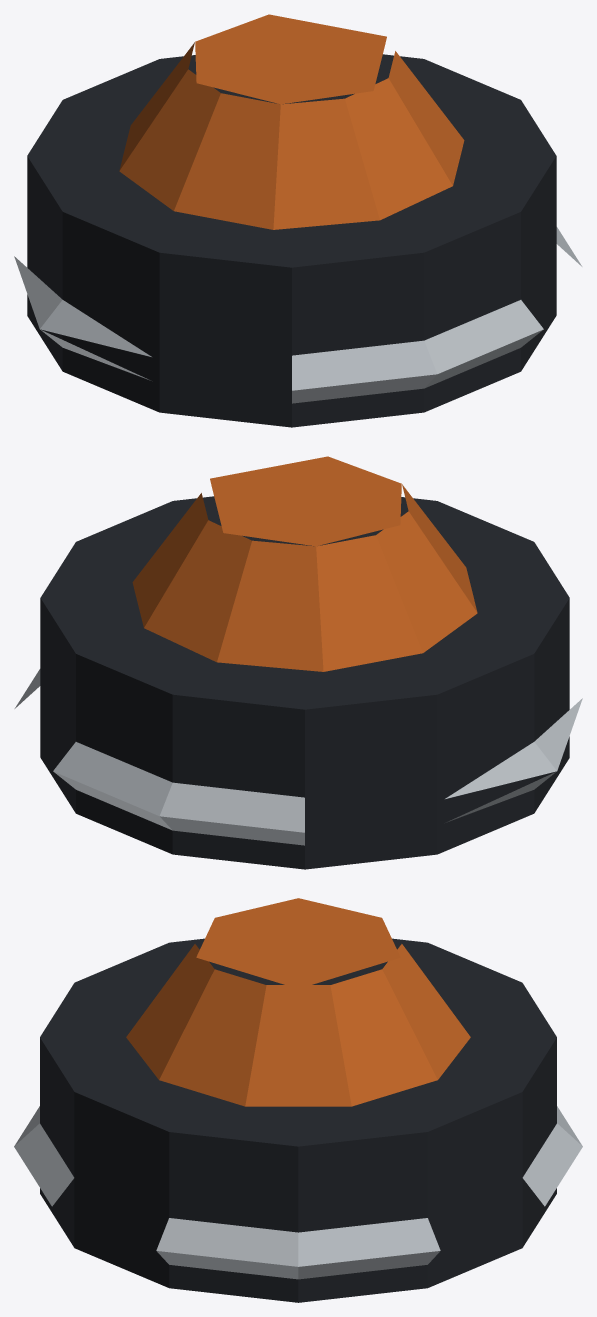
The model's file is homing-beacon.lod.glb.
The picture shows the model from 3 angles, top to bottom: view 1: azimuth 30°, elevation 25°; view 2: azimuth 150°, elevation 25°; view 3: azimuth 270°, elevation 25°; orthographic projection. The views are drawn at different scales.
Visible parts, largest first — view 1: m; view 2: m; view 3: m.
Part boxes in pixels (x1,y1,x2,y2): m: (14, 14, 582, 427); m: (14, 456, 582, 869); m: (14, 898, 582, 1302).
Size of the model in its own units: 0.0614 by 0.0298 by 0.0614.
